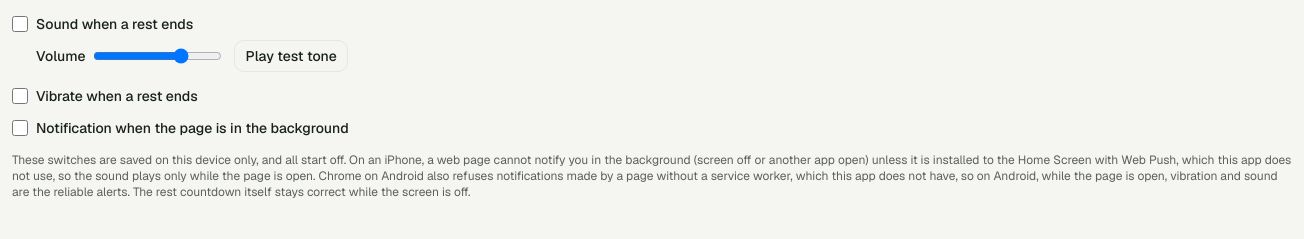
Test: RestAlertsForm › switches back off and says why when the browser blocks notifications
This screenshot has width=1304, height=239.
Click the checkbox labelled "Notification when the page is in the background": point(20, 128) [12,120,28,136]
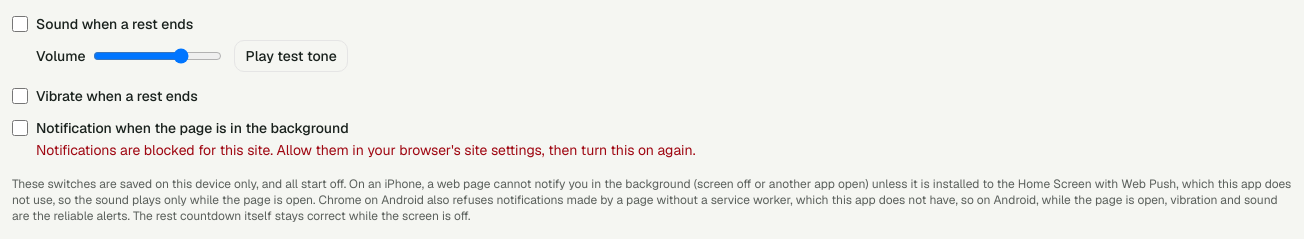
Check: the message shows "blocked", box [36,141,696,159]
